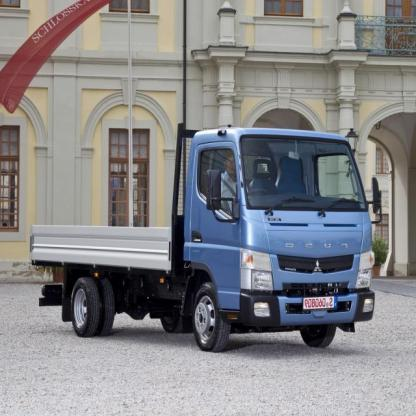truck: (32, 122, 386, 349)
